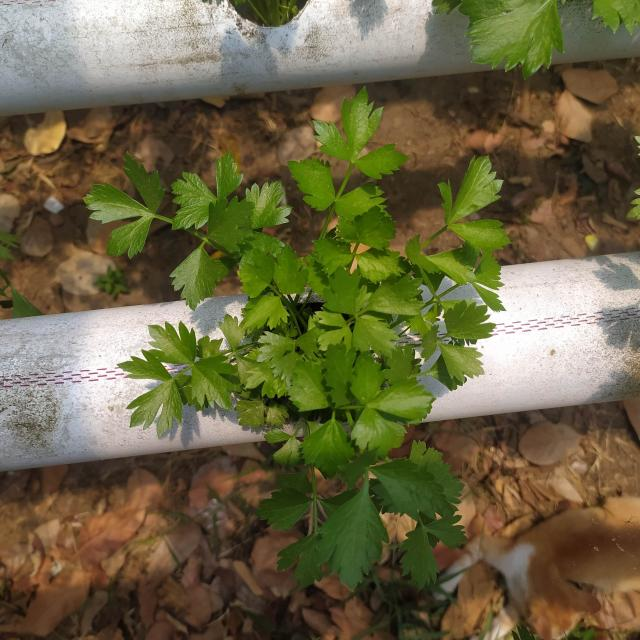Wet Waste: (83, 86, 514, 594)
